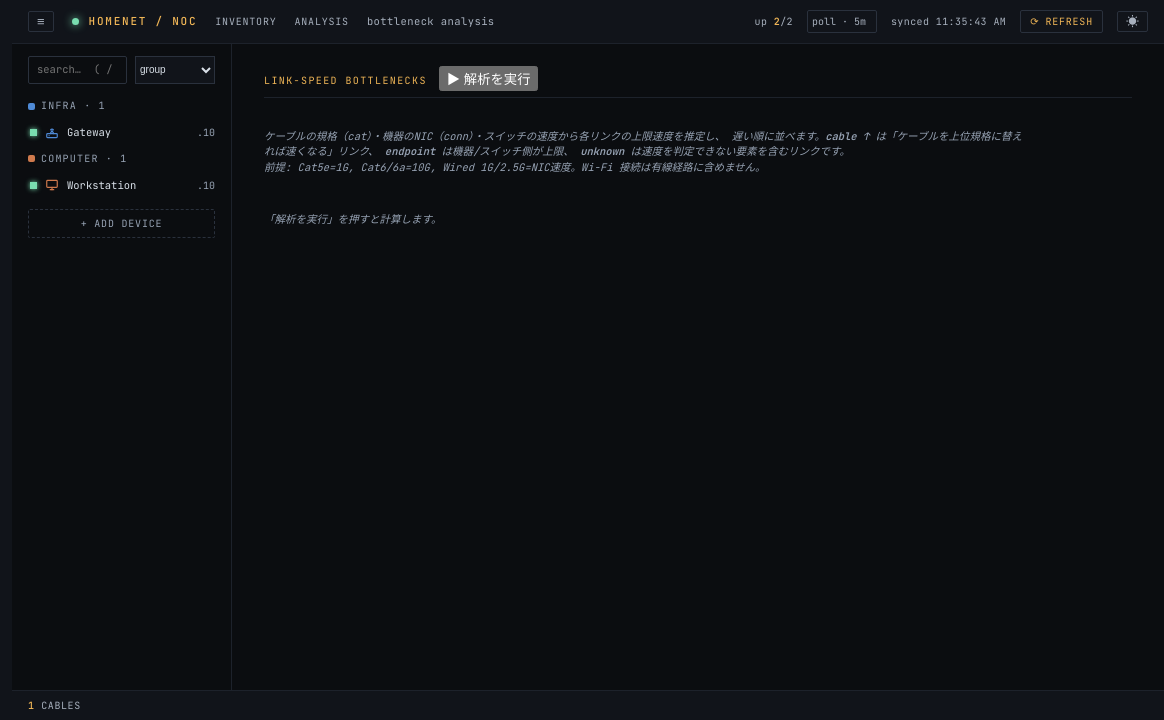
BottleneckView › renders the per-device ceiling table for wired devices
This screenshot has width=1164, height=720.
Click the button "▶ 解析を実行". click: (489, 78)
box: [439,66,538,91]
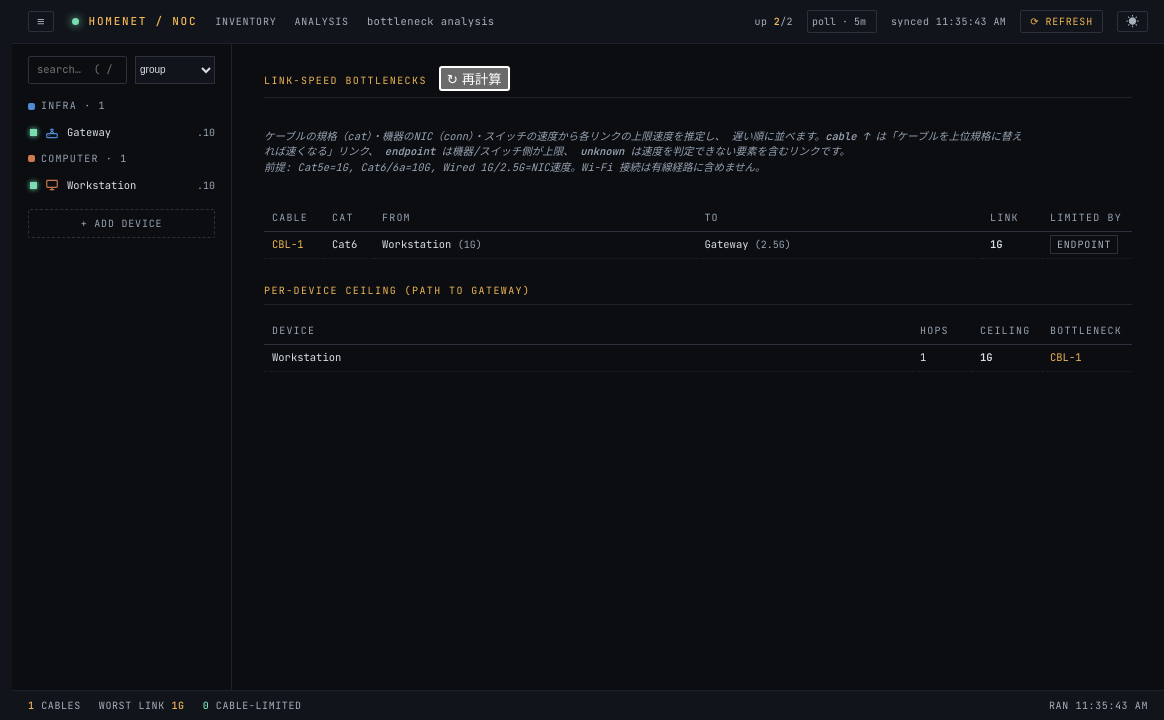
Result: the text "per-device ceiling" is shown at [264,284,530,297]
Result: the text "Workstation" is shown at [264,344,912,371]
